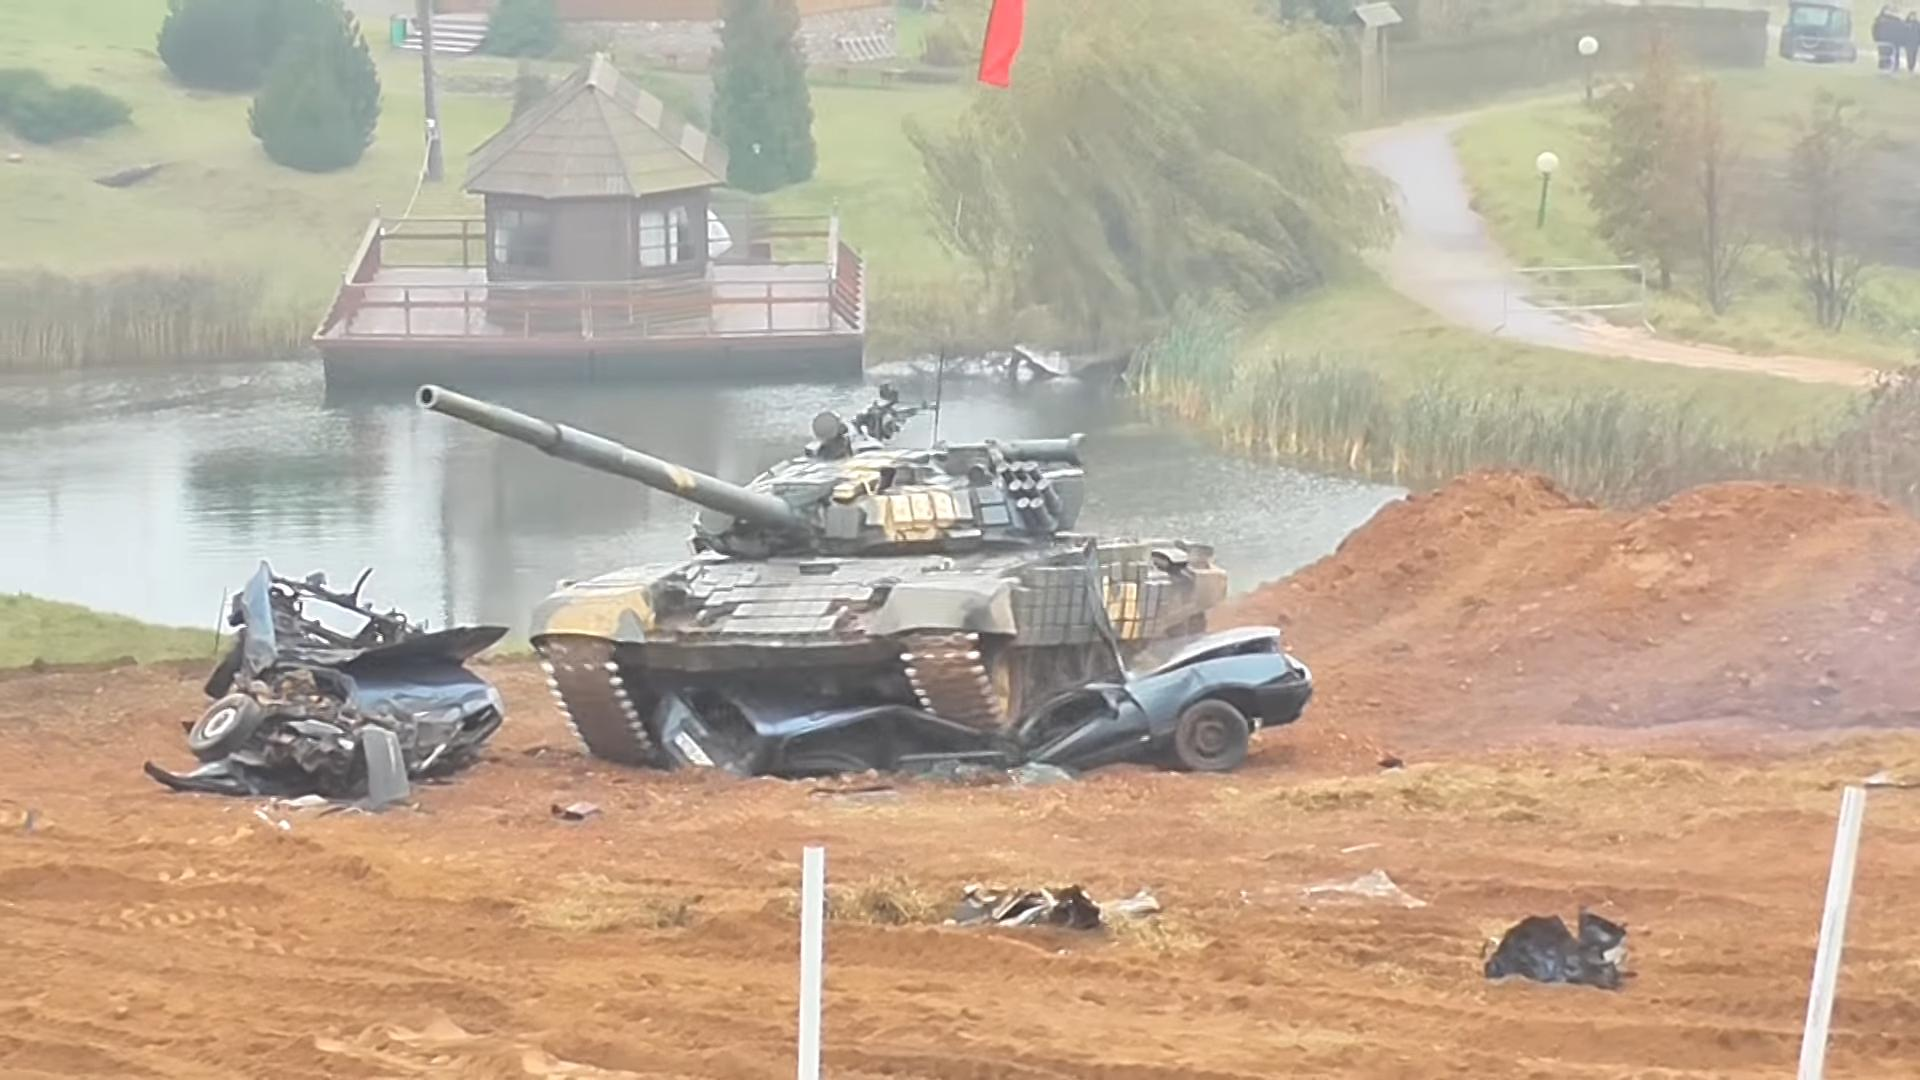tank: (411, 351, 1229, 765)
